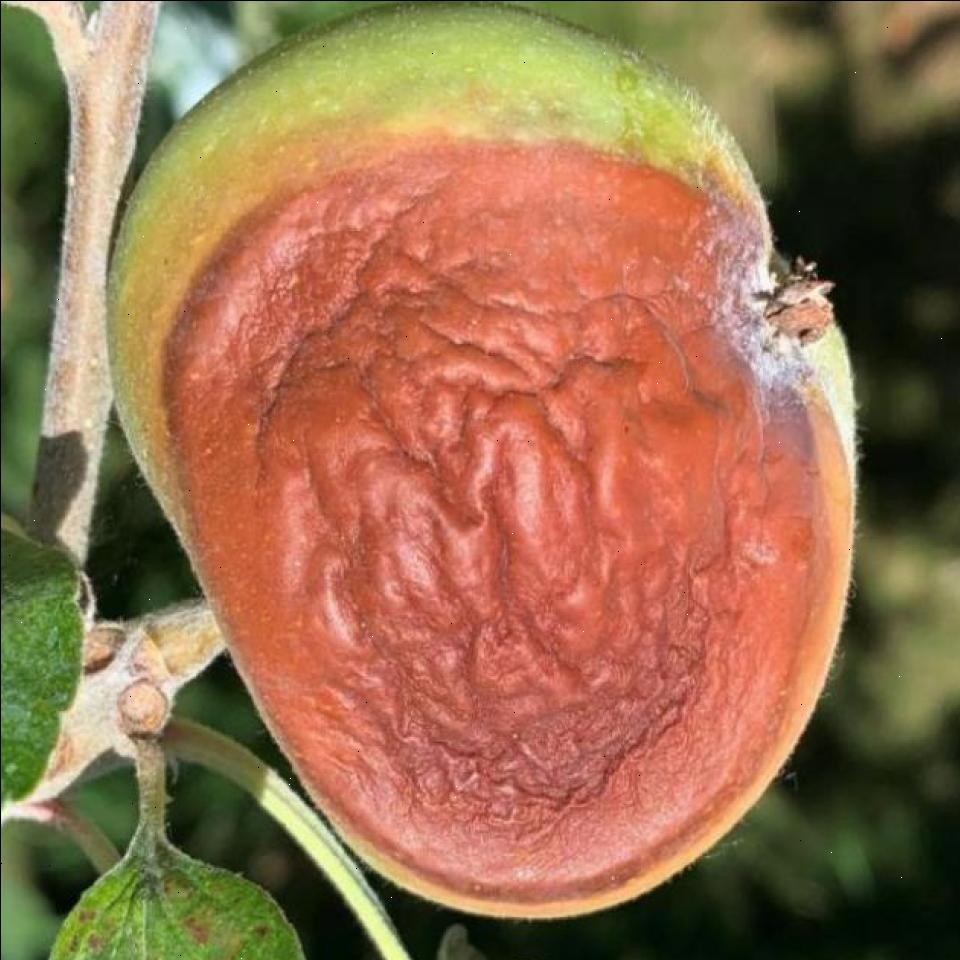Sunscald: (147, 137, 822, 907)
